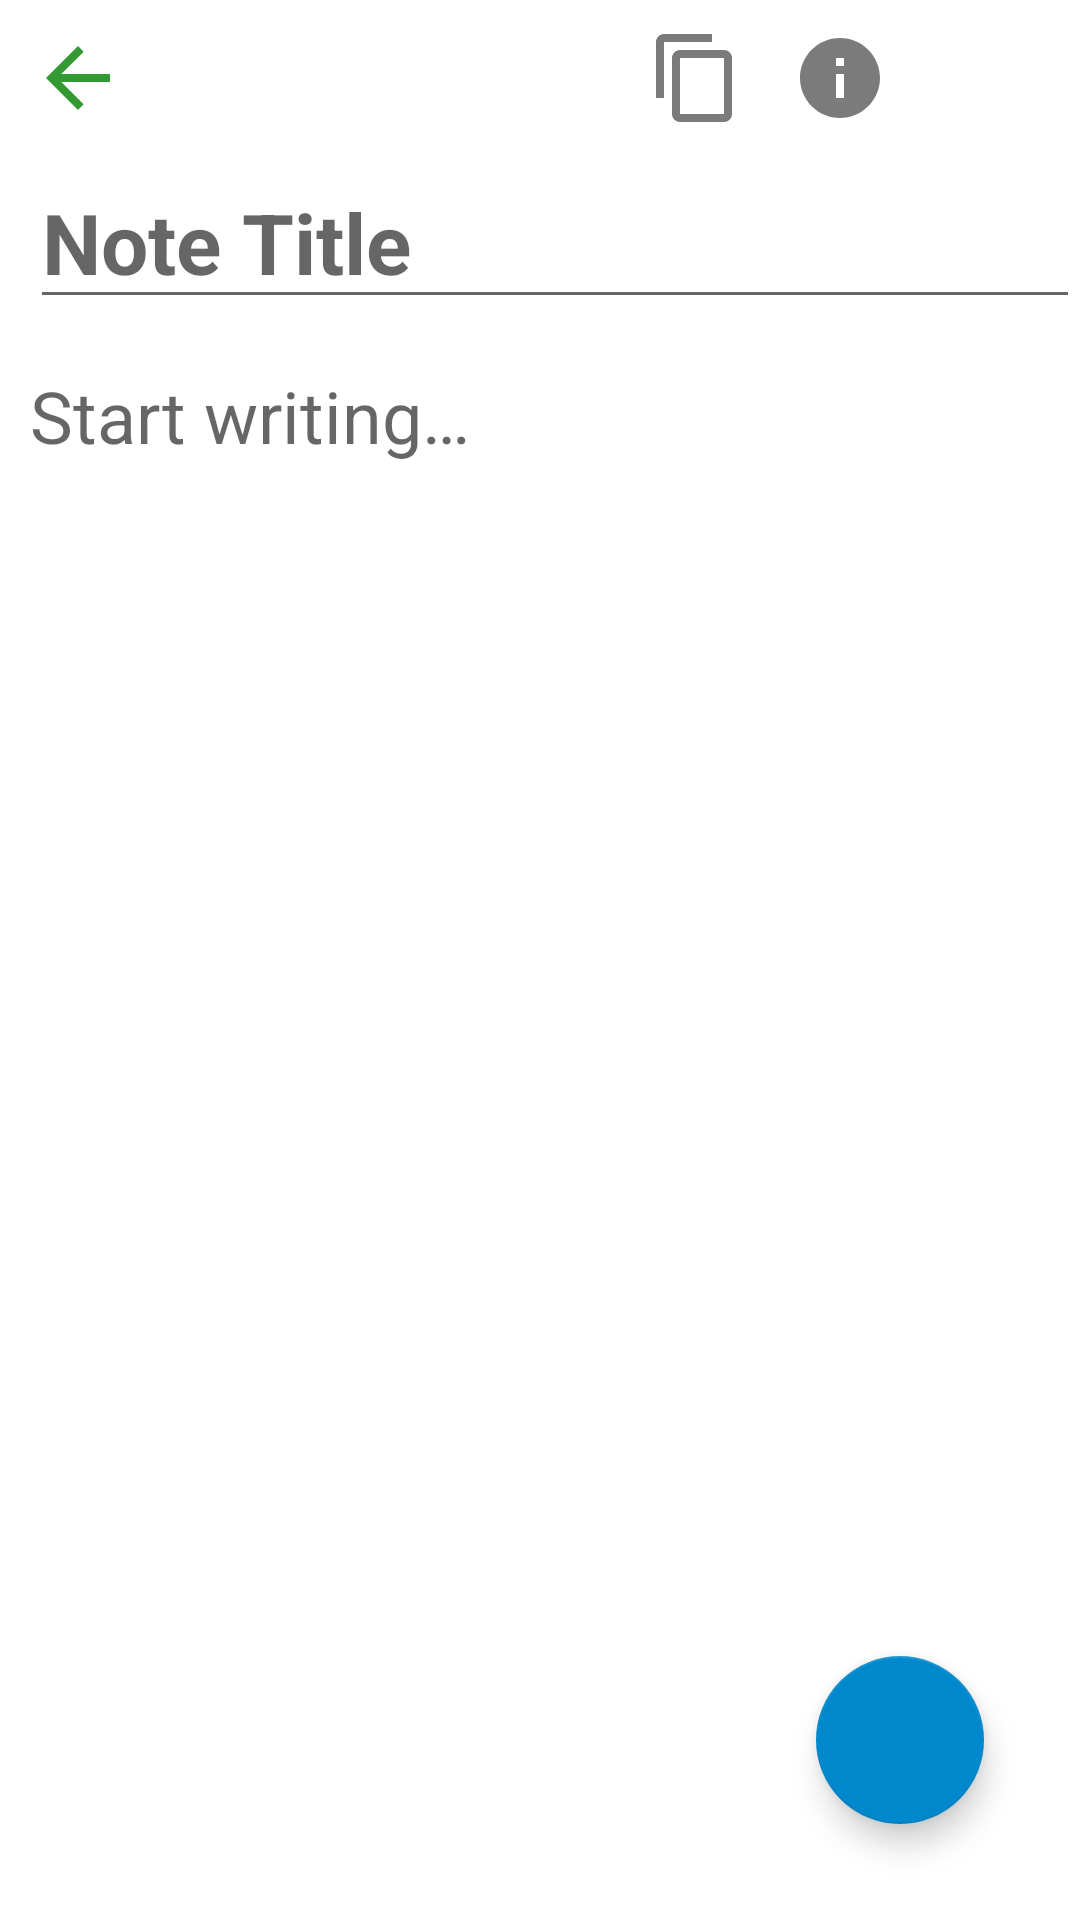

Screen size 1080 × 1920. Icon name, then its center in pixels as (x=x, y=y):
Back button: (x=78, y=78)
Copy button: (x=694, y=78)
Info button: (x=840, y=78)
